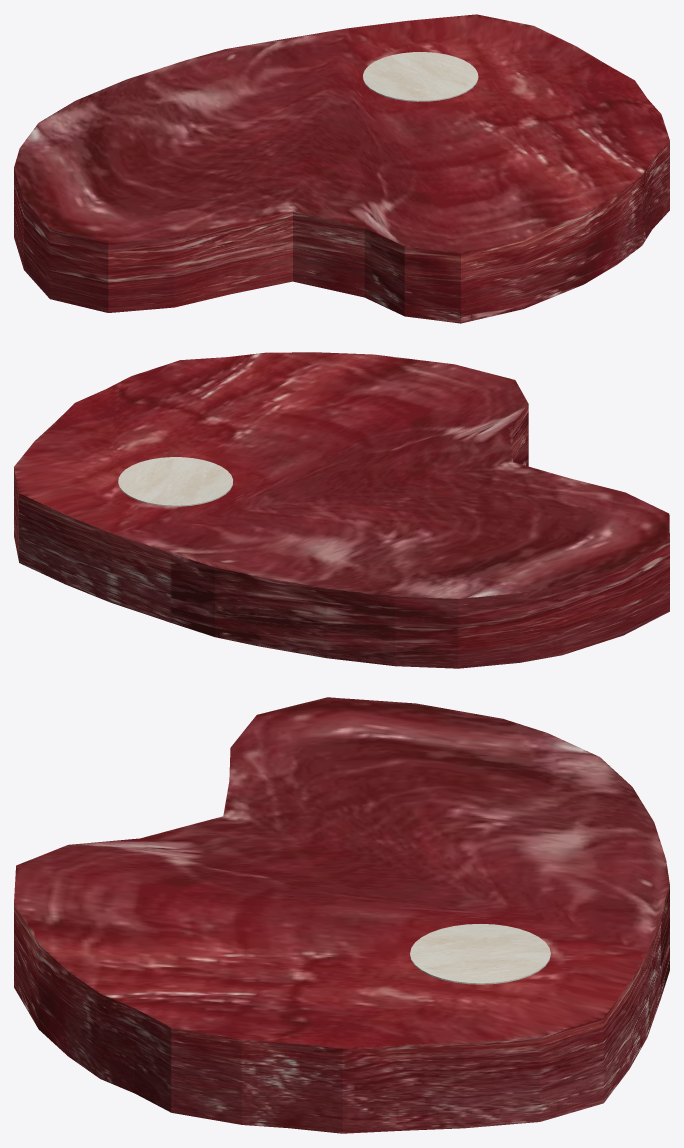
The model's file is Meat.fbx.
3 views of the same model, one above another, from view 1: azimuth 30°, elevation 25°; view 2: azimuth 150°, elevation 25°; view 3: azimuth 270°, elevation 25° (orthographic). The views are drawn at different scales.
Parts seen in each view (by area): view 1: Body, Bone; view 2: Body, Bone; view 3: Body, Bone.
Boxes of the visible parts, <box> form: Body: <box>14,14,669,323</box>; Bone: <box>363,52,478,101</box>; Body: <box>14,352,669,668</box>; Bone: <box>118,457,233,506</box>; Body: <box>14,697,669,1133</box>; Bone: <box>410,924,550,984</box>.
Size of the model in its own units: 0.7791 by 0.6148 by 0.0894.
2 materials, 2 textured.
